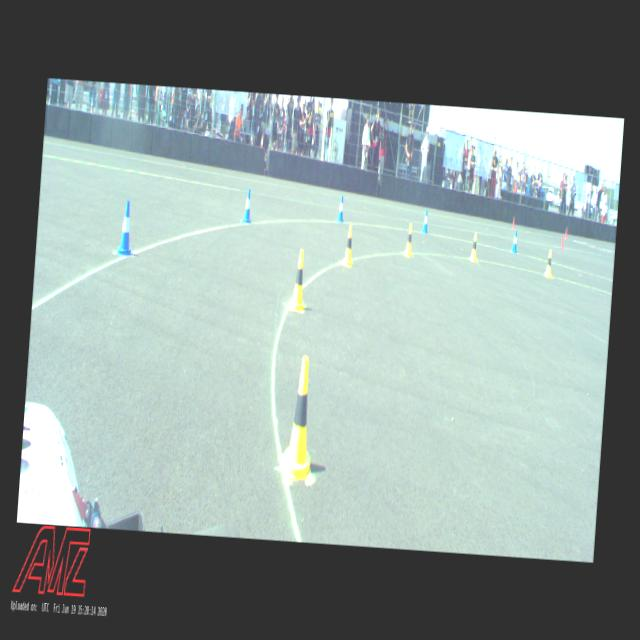blue_cone: (116, 200, 136, 254), (242, 188, 253, 224), (336, 194, 344, 221), (511, 230, 518, 252), (422, 208, 428, 232)
unknown_cone: (560, 232, 564, 248), (564, 227, 567, 239), (512, 215, 514, 228)
yellow_cone: (280, 355, 318, 479), (288, 249, 308, 312), (341, 225, 354, 268), (404, 223, 414, 256), (470, 232, 478, 260), (544, 250, 552, 276)
